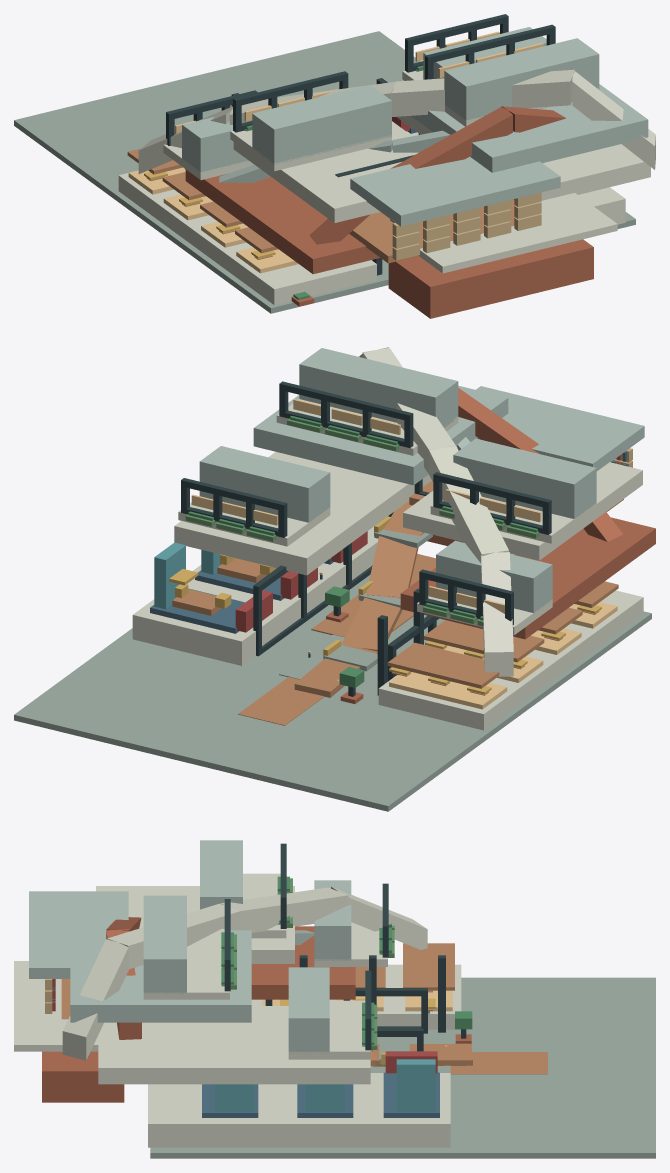
Rendered from a43_inhabited_seam.obj.
The picture shows the model from 3 angles, top to bottom: view 1: azimuth 30°, elevation 25°; view 2: azimuth 150°, elevation 25°; view 3: azimuth 270°, elevation 25°; orthographic projection. The views are drawn at different scales.
Size of the model in its own units: 96 by 45.9 by 148.
